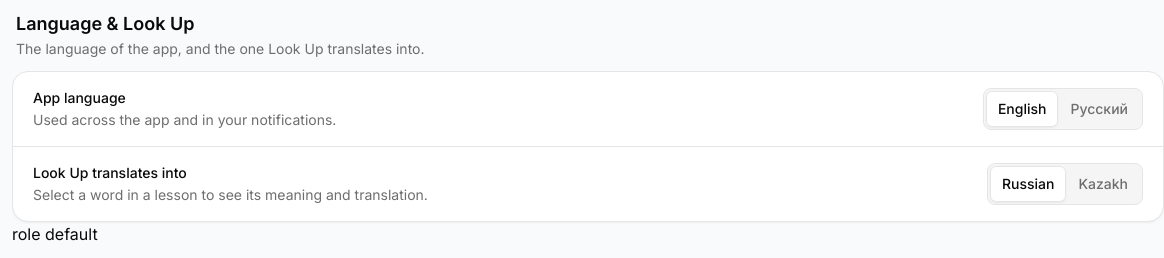
Test: Settings → App language › starts on the role’s language and switches a student to Russian
This screenshot has width=1164, height=258.
Click the radio button labelled "Русский" at (1099, 109), box [1058, 91, 1140, 127]
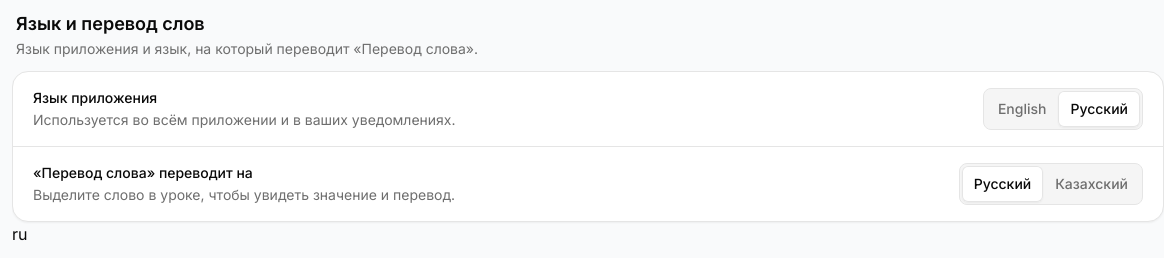
Check: the text "Язык и перевод слов" is shown, box [16, 13, 205, 34]
